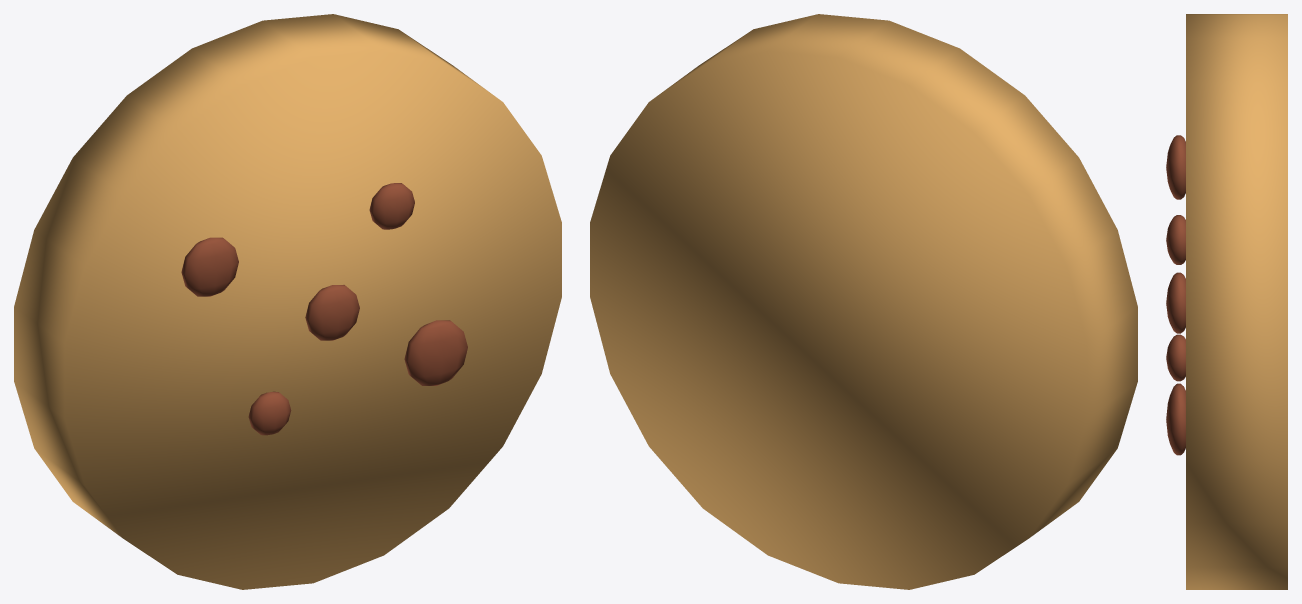
File: cookie.glb
3 views of the same model, side by side, from view 1: azimuth 30°, elevation 25°; view 2: azimuth 150°, elevation 25°; view 3: azimuth 270°, elevation 25° (orthographic).
Parts seen in each view (by area): view 1: cookie; view 2: cookie; view 3: cookie.
Part boxes in pixels (bbox=[...]): cookie: bbox=[14, 14, 561, 589]; cookie: bbox=[590, 14, 1137, 589]; cookie: bbox=[1166, 14, 1287, 589].
Bounding box in the file's own units: 0.9898 × 1 × 0.2094.
